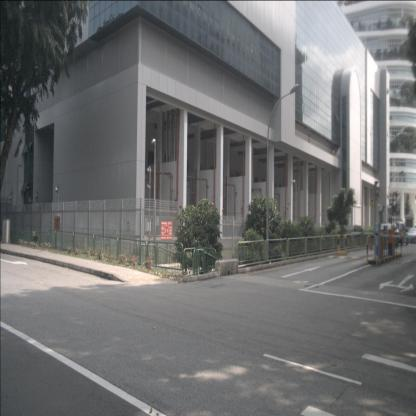cone: (370, 237, 374, 250)
